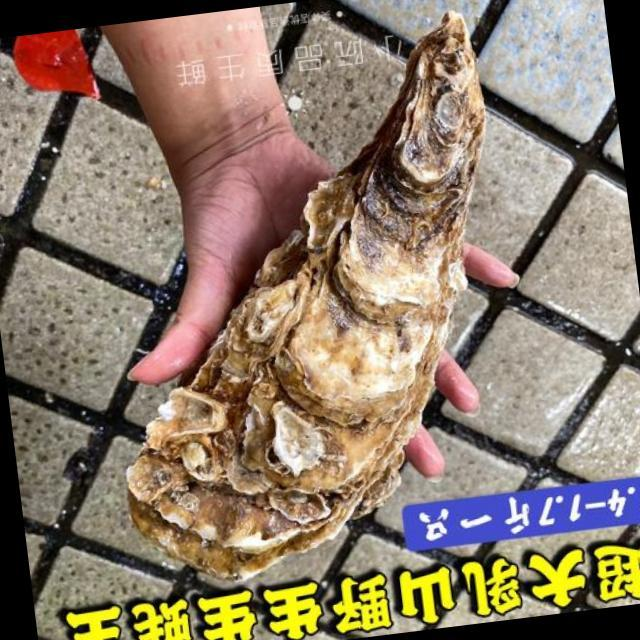Oyster- Indeterminate: (125, 12, 487, 588)
